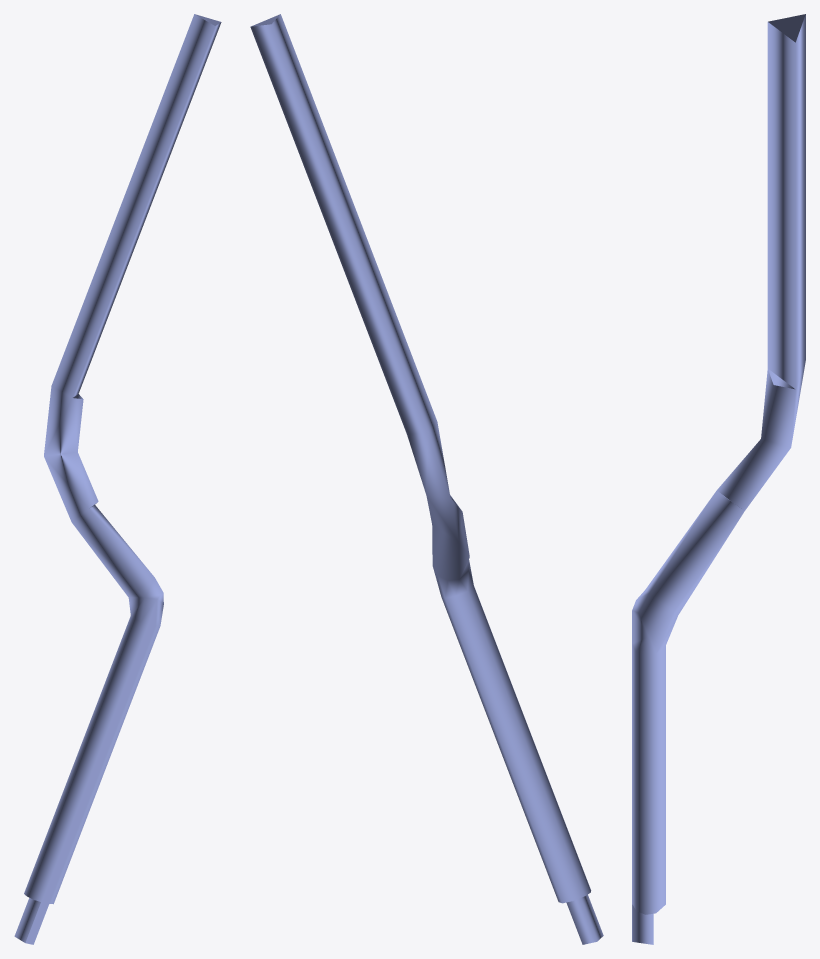
File: Copie de piece pour piece plan 3^Copie de Ass de piece plan ave 2 piece_Horloge Comtoise Verge - Sonnerie.obj
3 renders of one model, left to right at view 1: azimuth 30°, elevation 25°; view 2: azimuth 150°, elevation 25°; view 3: azimuth 270°, elevation 25°, orthographic. The views are drawn at different scales.
Visible parts, largest first — view 1: Face_1, Face_10, Face_2, Face_4, Face_8, Face_9, Face_6, Face_12, Face_5; view 2: Face_1, Face_7, Face_2, Face_10, Face_4, Face_12; view 3: Face_1, Face_9, Face_4, Face_2, Face_7, Face_5, Face_12, Face_6, Face_3.
Boxes of the visible parts, x1=… form: Face_1: x1=51, y1=14, x2=221, y2=397; Face_10: x1=24, y1=616, x2=148, y2=943; Face_2: x1=44, y1=386, x2=98, y2=521; Face_4: x1=72, y1=505, x2=154, y2=597; Face_8: x1=26, y1=600, x2=156, y2=944; Face_9: x1=33, y1=625, x2=160, y2=944; Face_6: x1=131, y1=593, x2=163, y2=625; Face_12: x1=14, y1=898, x2=40, y2=942; Face_5: x1=128, y1=578, x2=163, y2=615; Face_1: x1=250, y1=14, x2=437, y2=434; Face_7: x1=441, y1=591, x2=584, y2=903; Face_2: x1=407, y1=422, x2=462, y2=542; Face_10: x1=468, y1=586, x2=591, y2=895; Face_4: x1=432, y1=513, x2=469, y2=580; Face_12: x1=566, y1=894, x2=603, y2=944; Face_1: x1=767, y1=14, x2=805, y2=388; Face_9: x1=632, y1=644, x2=655, y2=941; Face_4: x1=645, y1=490, x2=744, y2=614; Face_2: x1=717, y1=362, x2=805, y2=510; Face_7: x1=656, y1=645, x2=665, y2=912; Face_5: x1=636, y1=590, x2=677, y2=653; Face_12: x1=632, y1=904, x2=653, y2=944; Face_6: x1=632, y1=601, x2=655, y2=655; Face_3: x1=768, y1=14, x2=805, y2=42.
Size of the model in its own units: 0.0172 by 0.052 by 0.00762.
